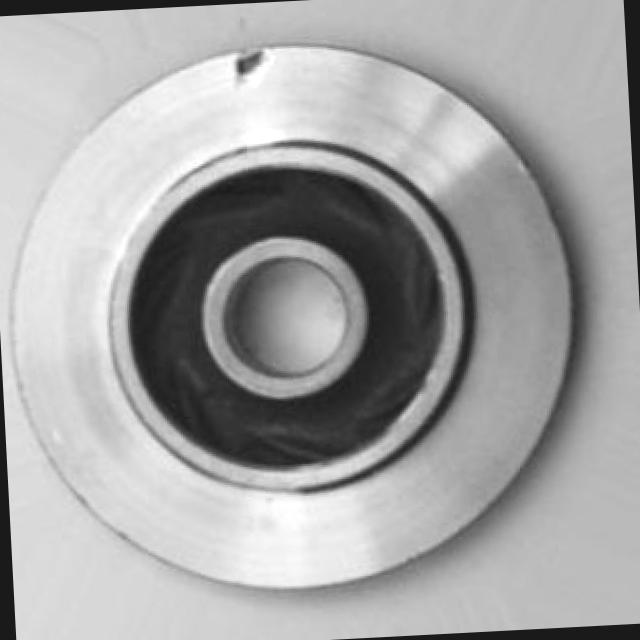Defect: (227, 41, 272, 86)
